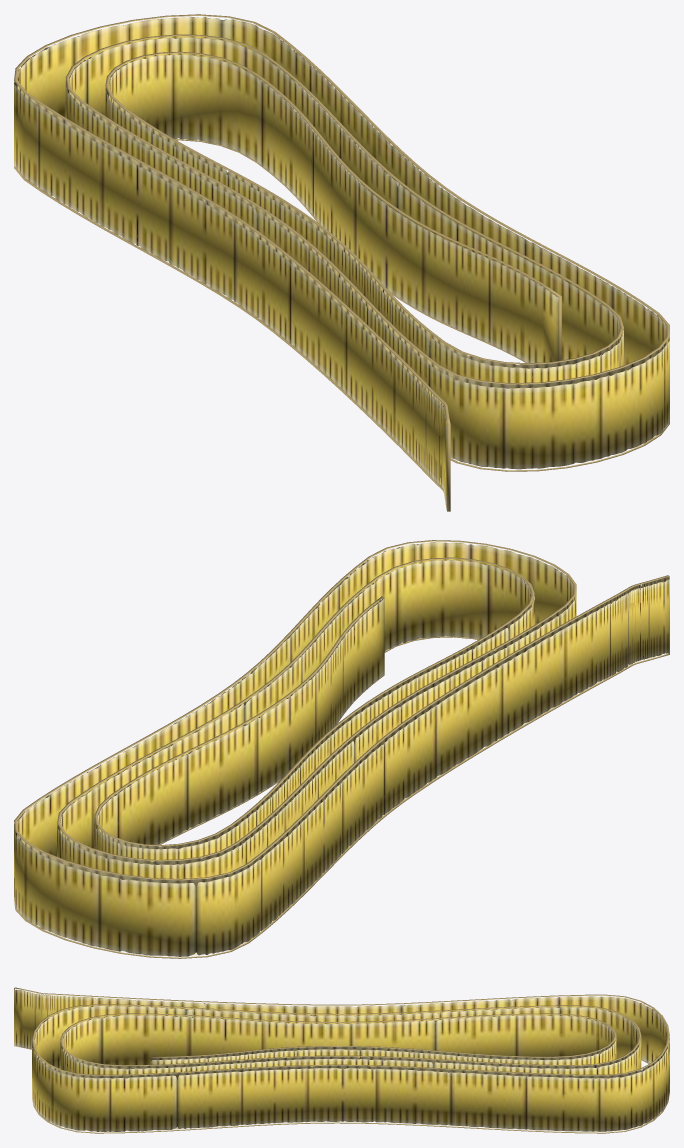
File: fita metrica esteril.fbx
3 views of the same model, one above another, from view 1: azimuth 30°, elevation 25°; view 2: azimuth 150°, elevation 25°; view 3: azimuth 270°, elevation 25° (orthographic). The views are drawn at different scales.
Parts seen in each view (by area): view 1: Bézier - Curva; view 2: Bézier - Curva; view 3: Bézier - Curva.
Part boxes in pixels (x1,y1,x2,y2): Bézier - Curva: [14, 14, 669, 511]; Bézier - Curva: [14, 540, 669, 958]; Bézier - Curva: [14, 987, 669, 1133].
Size of the model in its own units: 78.52 by 23.92 by 246.
2 materials, 1 textured.
